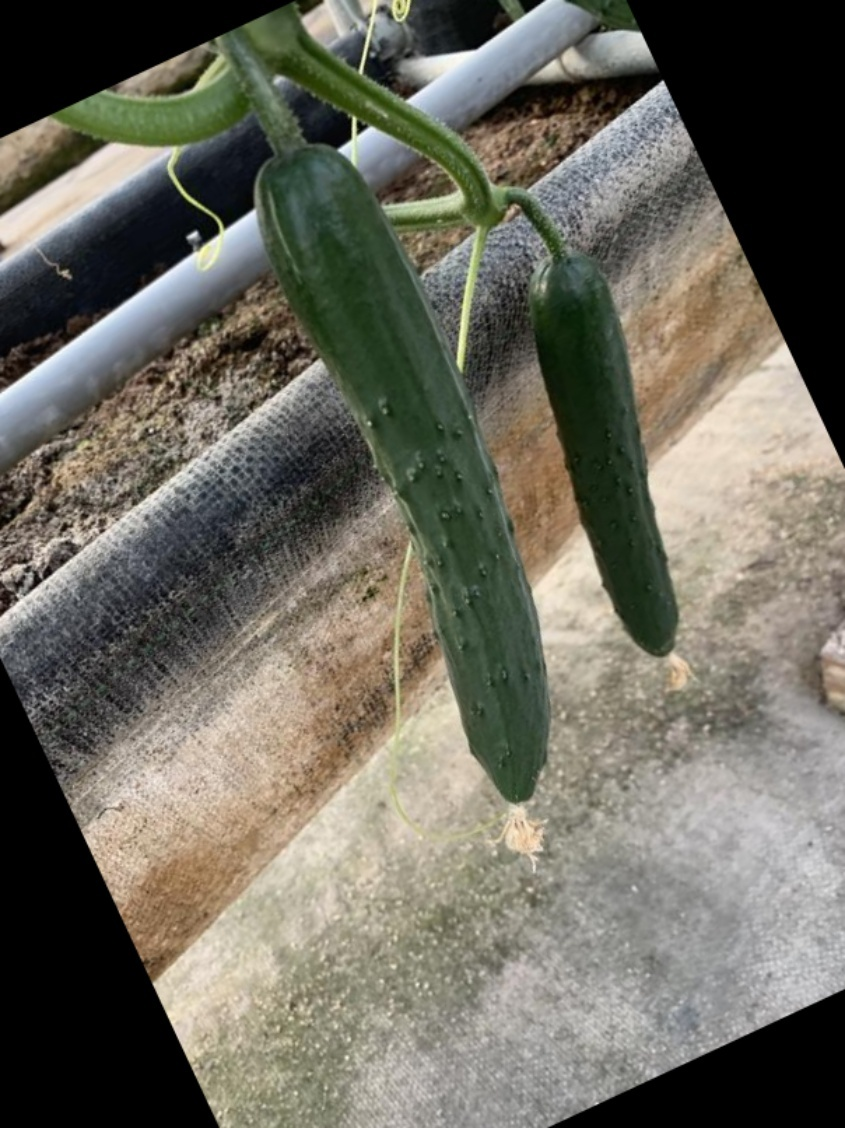mature: (259, 122, 572, 839)
